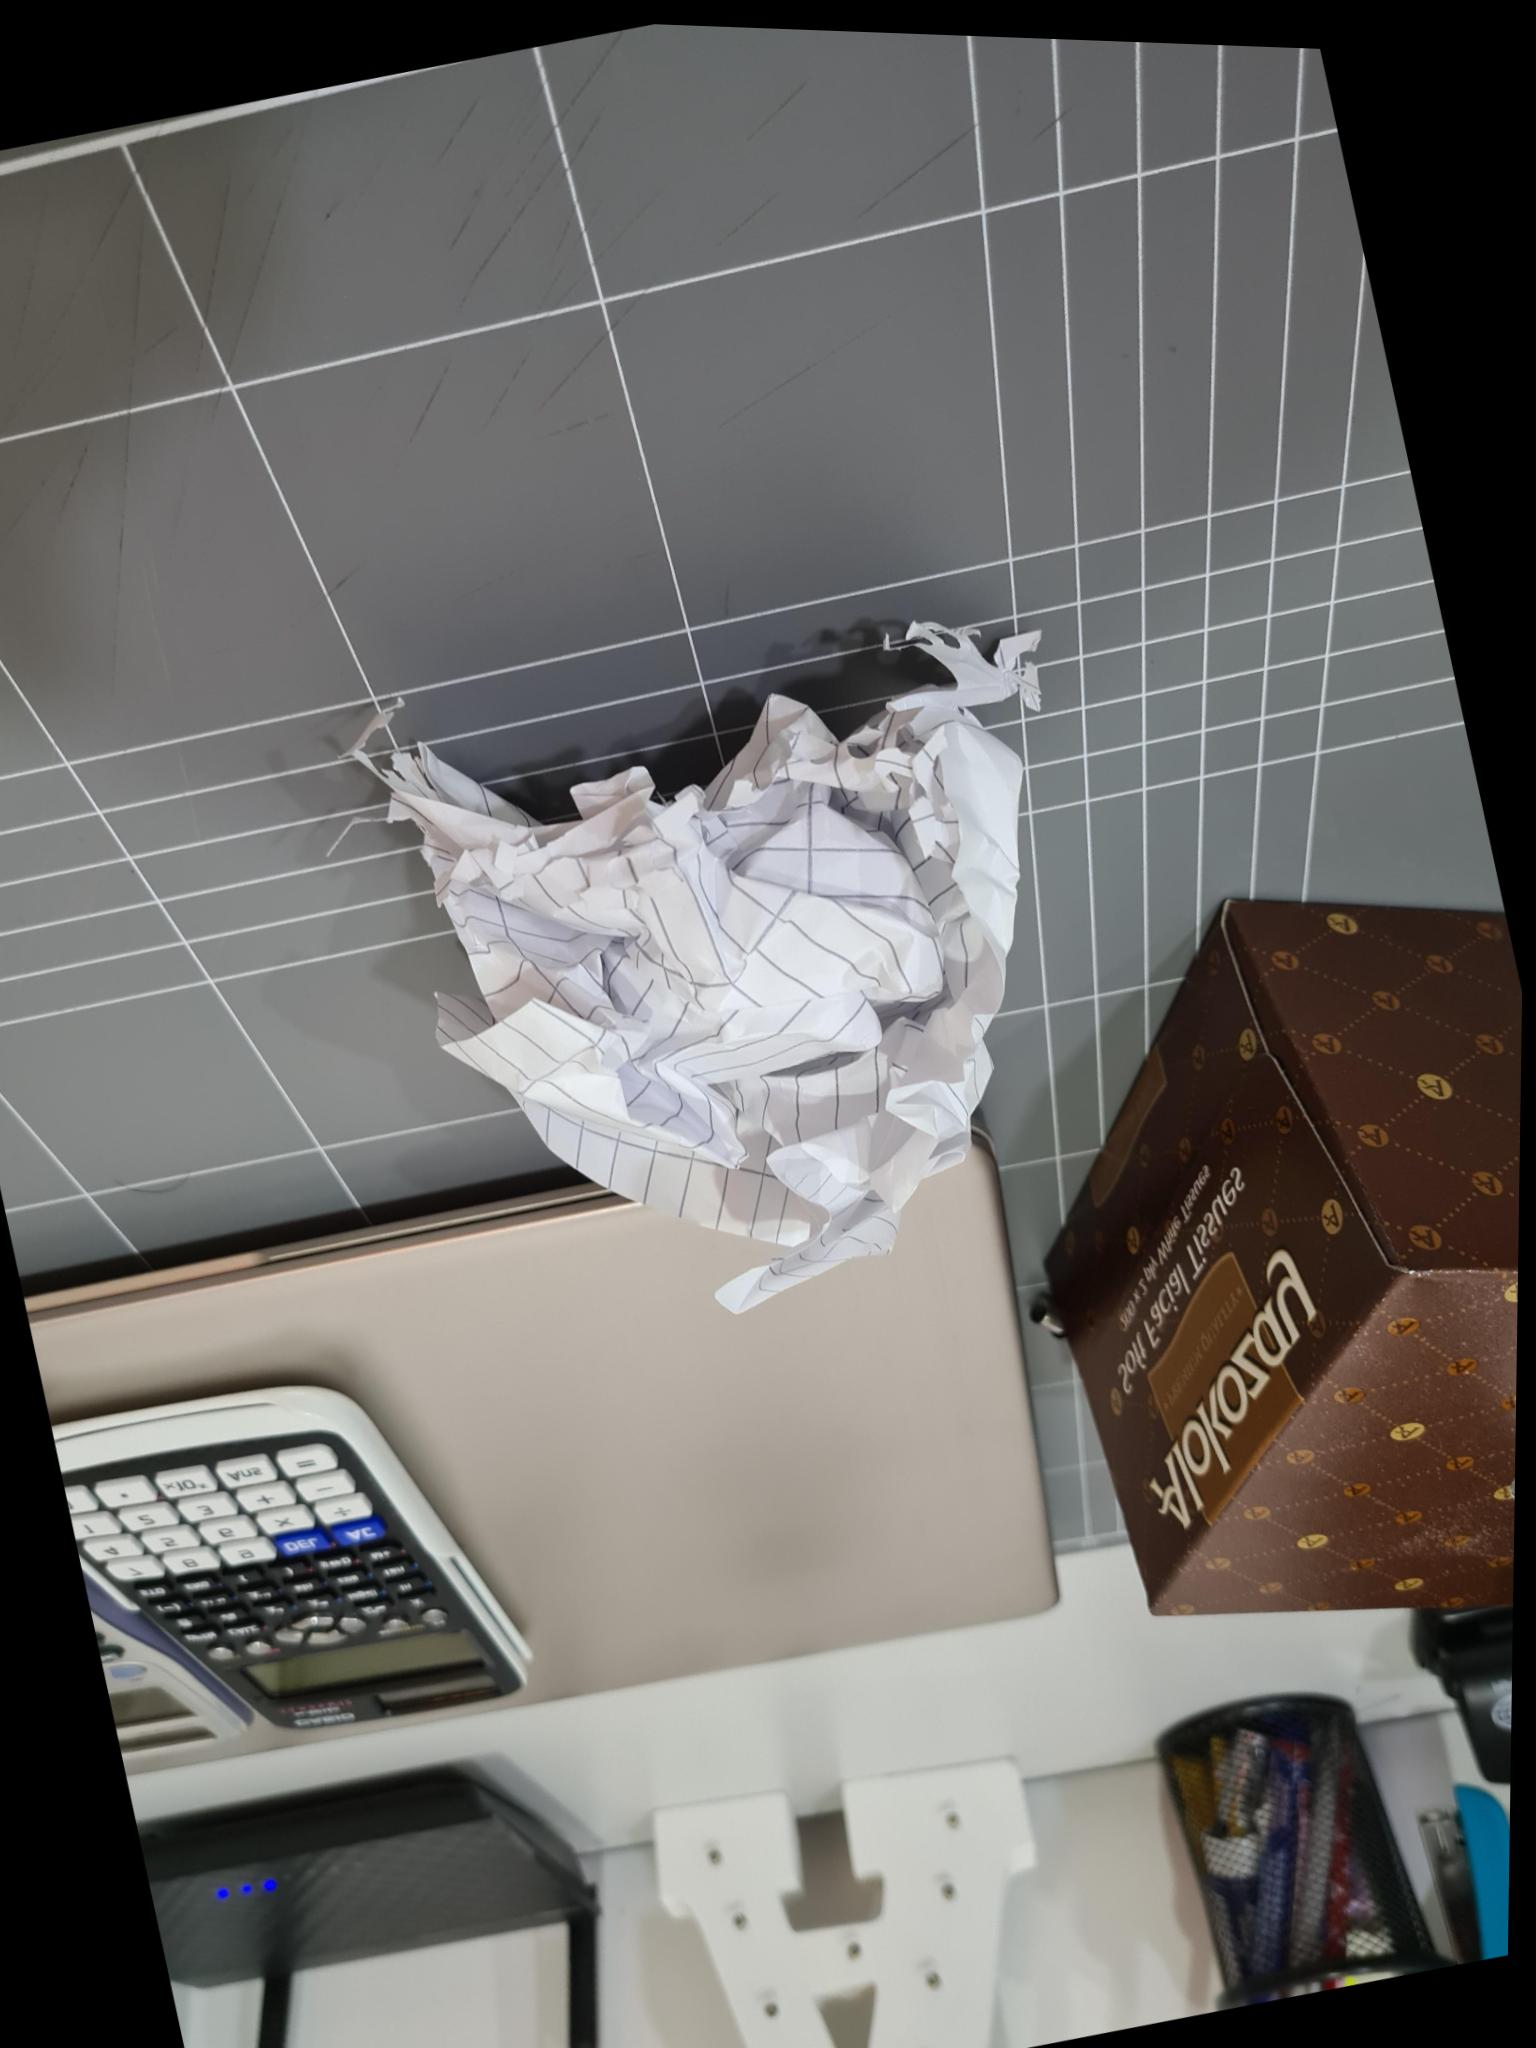paper: (355, 622, 1037, 1313)
